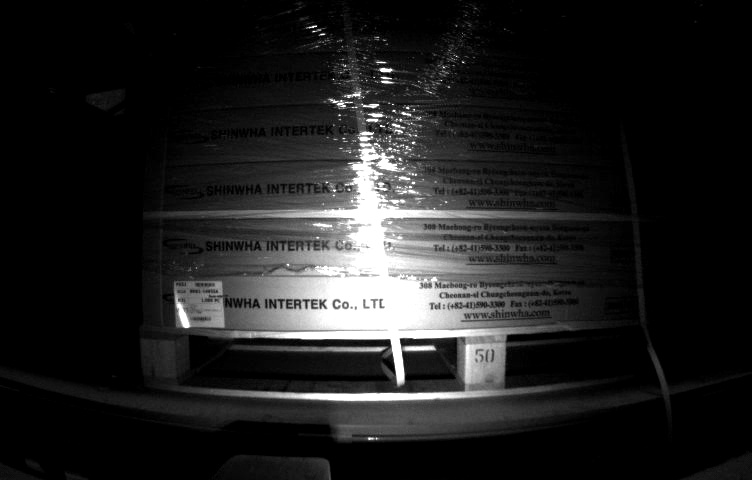True Barcode: (171, 279, 229, 328)
